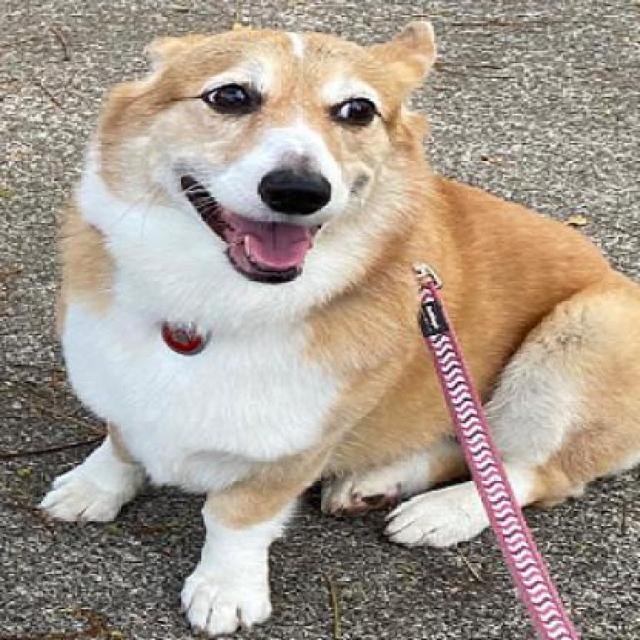Dog: (32, 19, 638, 638)
